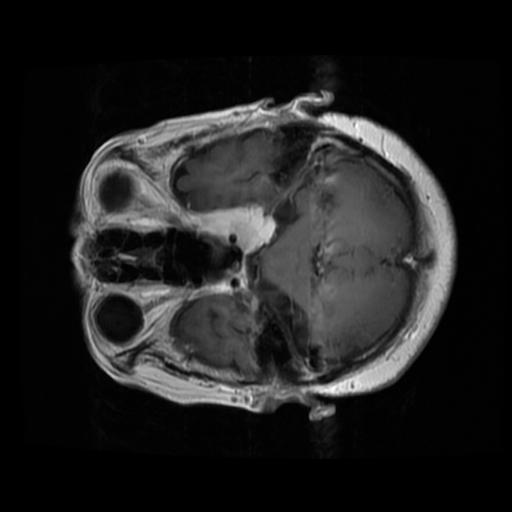meningioma: (187, 206, 277, 255)
